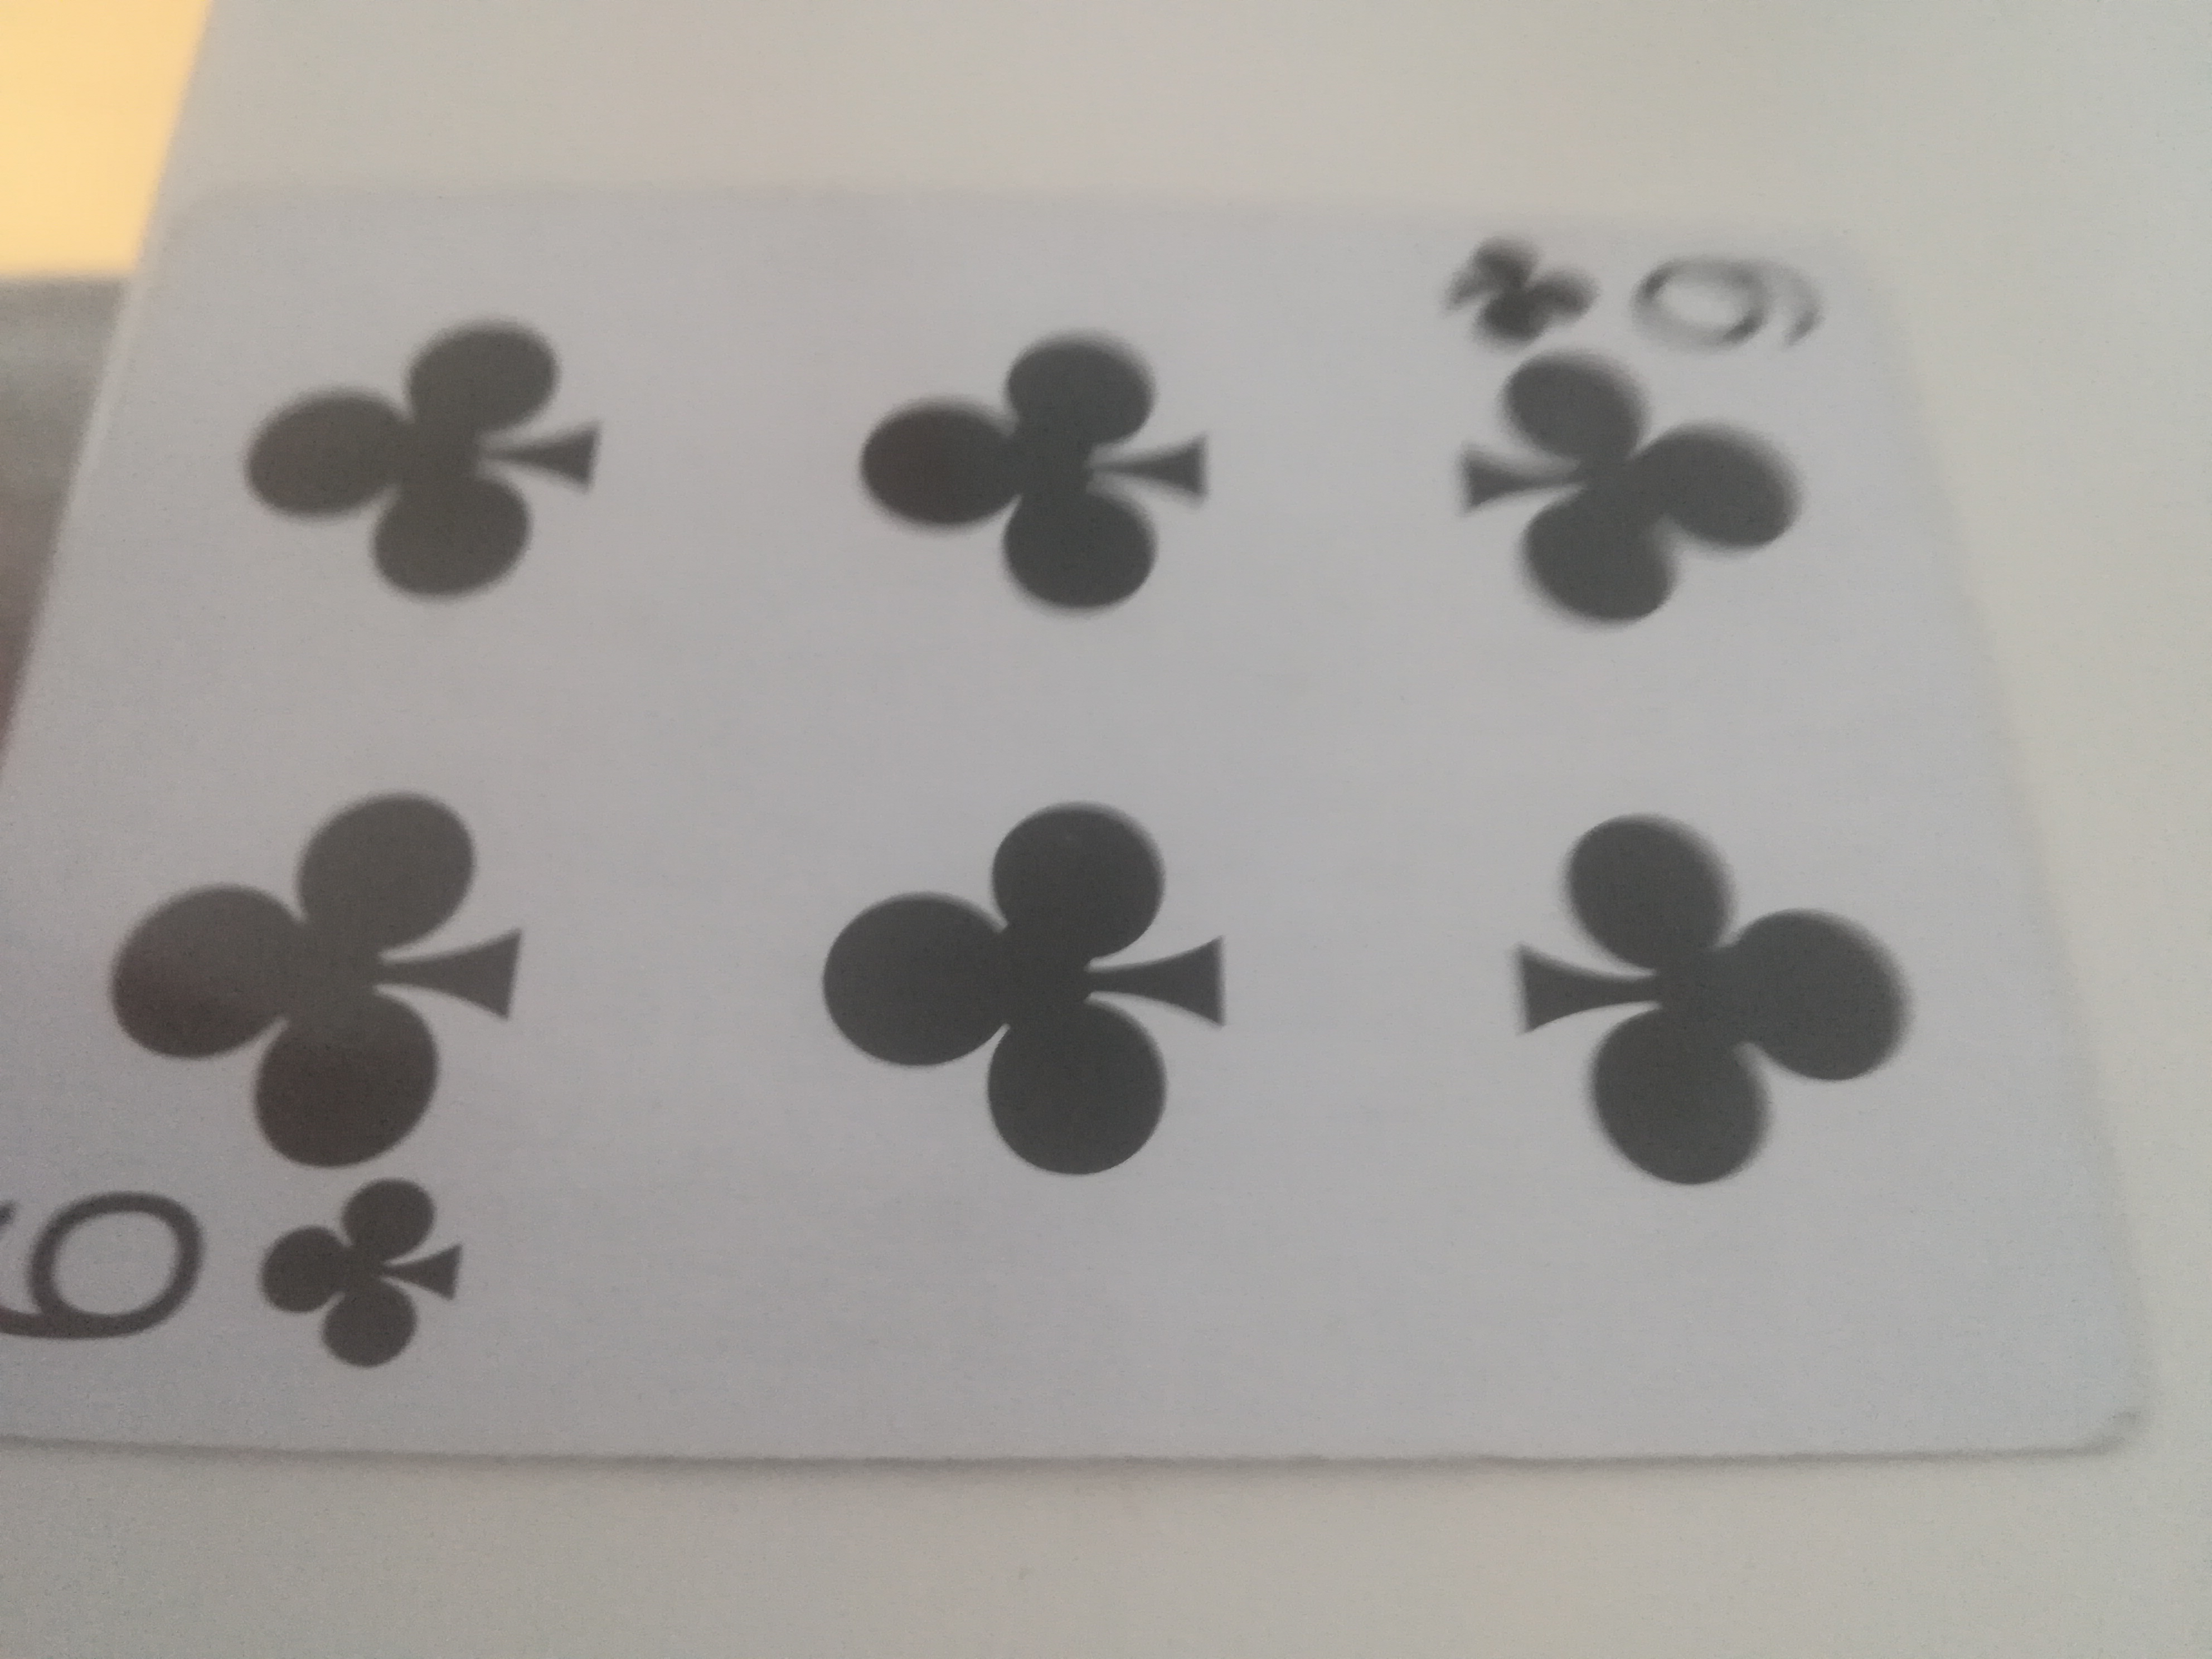6C: (0, 178, 2153, 1471)
